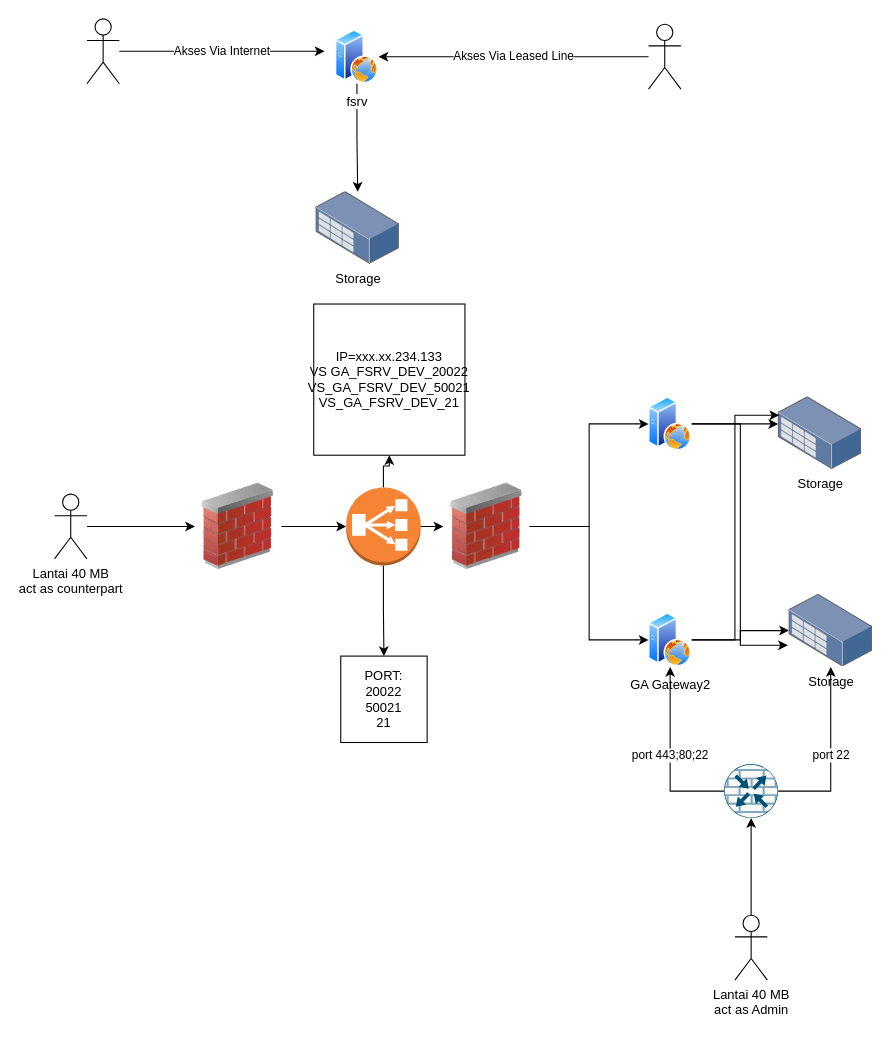
The diagram is 891 pixels wide and 1038 high, and some of its shapes have lost their labels. The box of each missing label's shape, as (x1, y1, x2, y2) in pixels:
Counterpart: (86, 18, 119, 84)
Counterpart Leased Line: (647, 23, 681, 89)
F5 Dev: (345, 487, 421, 565)
GA Gateway1: (648, 396, 691, 450)
VDI DEV: (723, 763, 778, 818)
